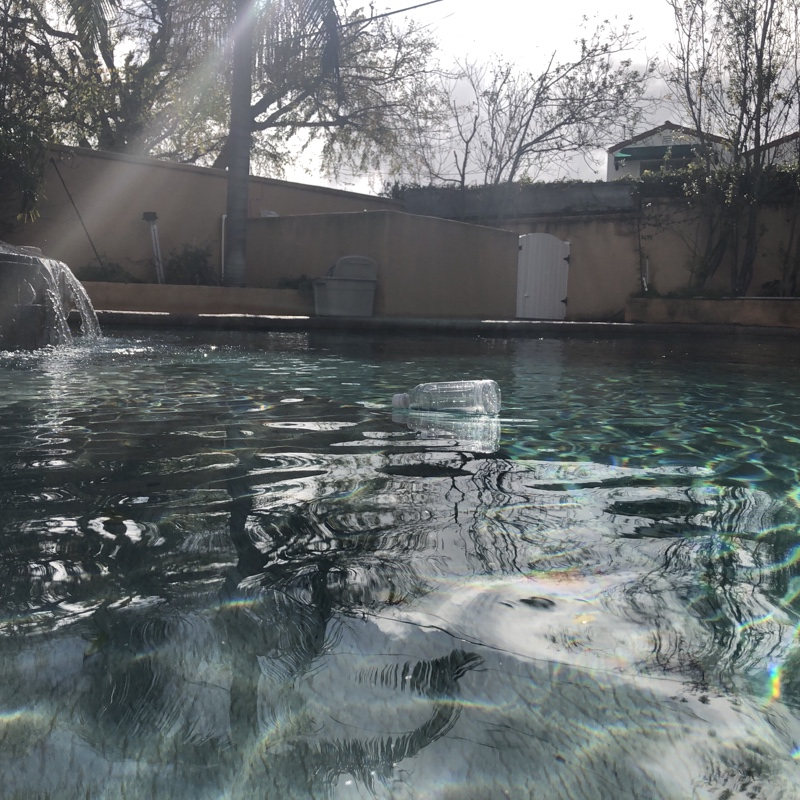Plastic Bottle: (384, 375, 504, 424)
